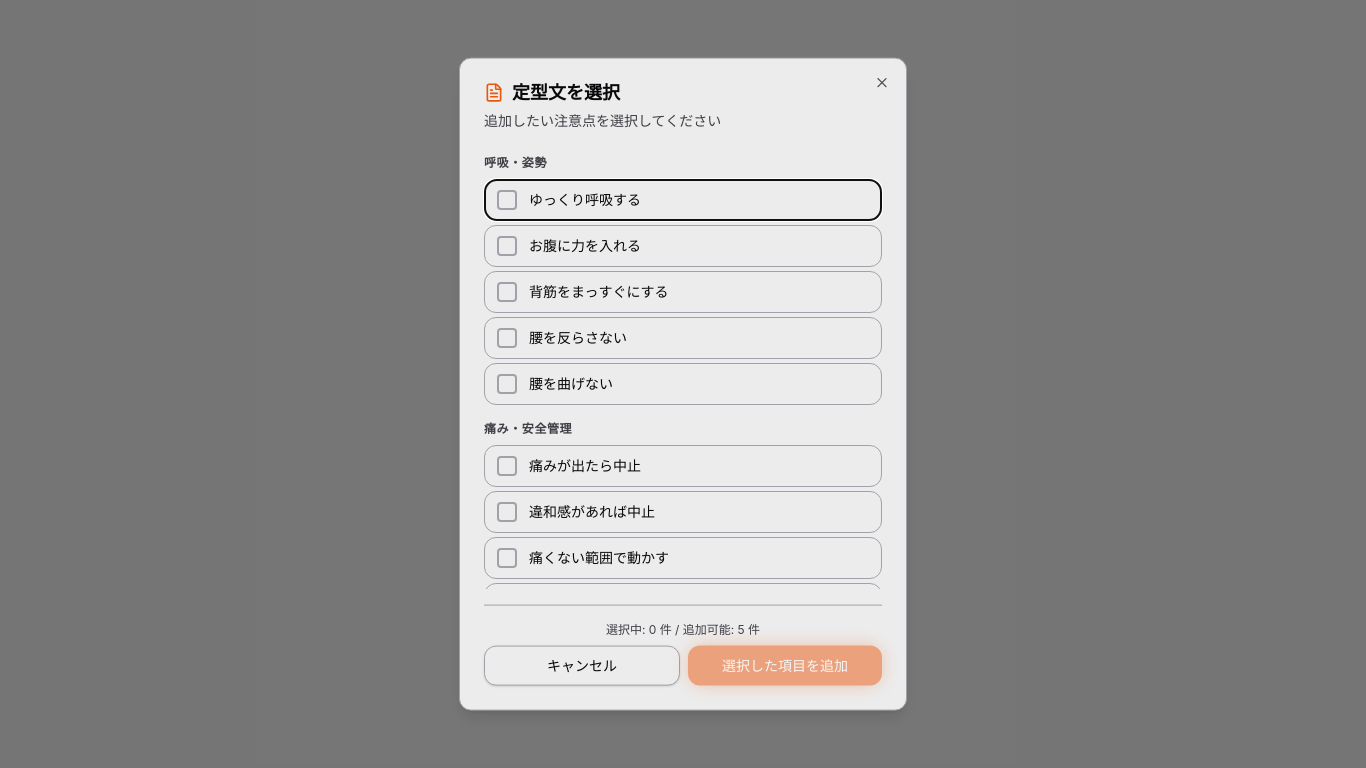
Test: PrecautionSnippetDialog › 選択機能 › 選択済みアイテムを再クリックで選択解除
Click the button "ゆっくり呼吸する" at (585, 199), box [484,179,882,221]
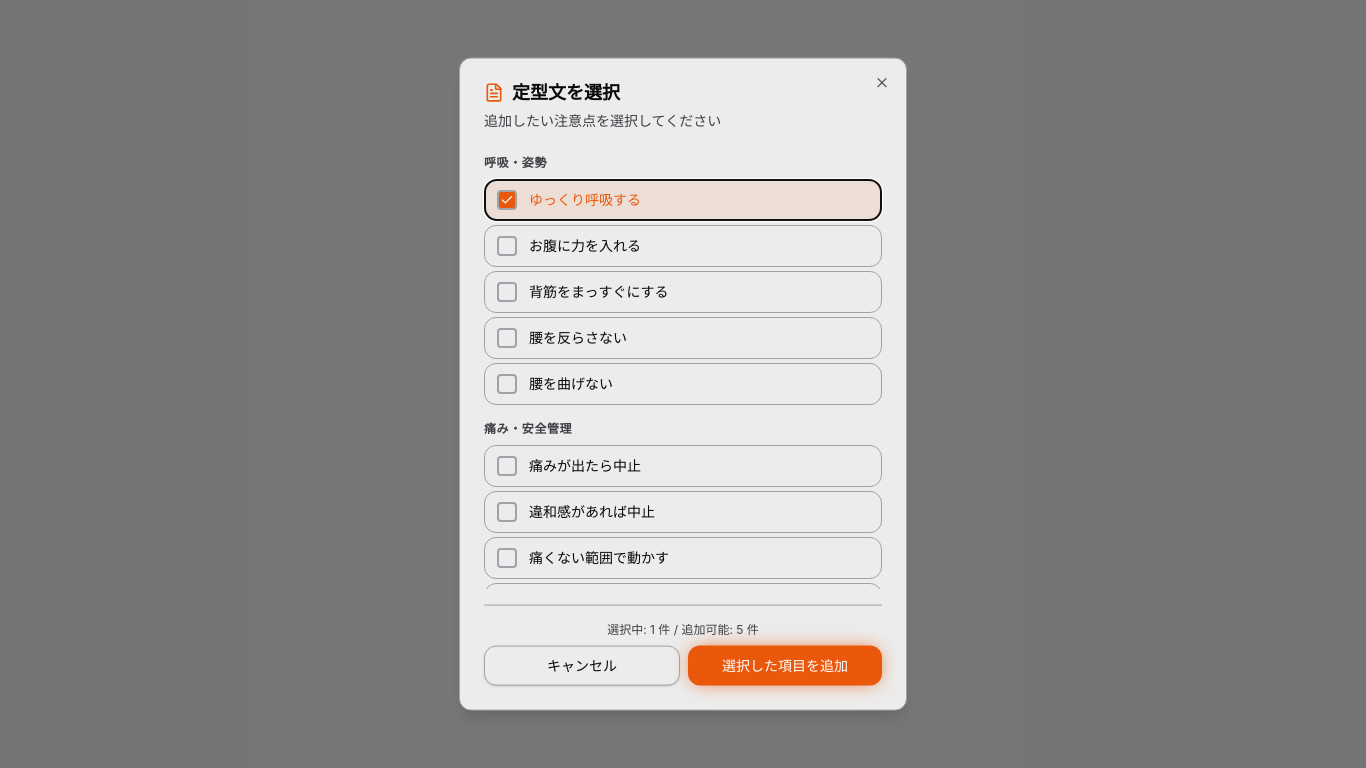
Check: the text "選択中: 1 件 / 追加可能: 5 件" is shown, box [607,621,759,636]
Click the button "ゆっくり呼吸する" at (585, 199), box [484,179,882,221]
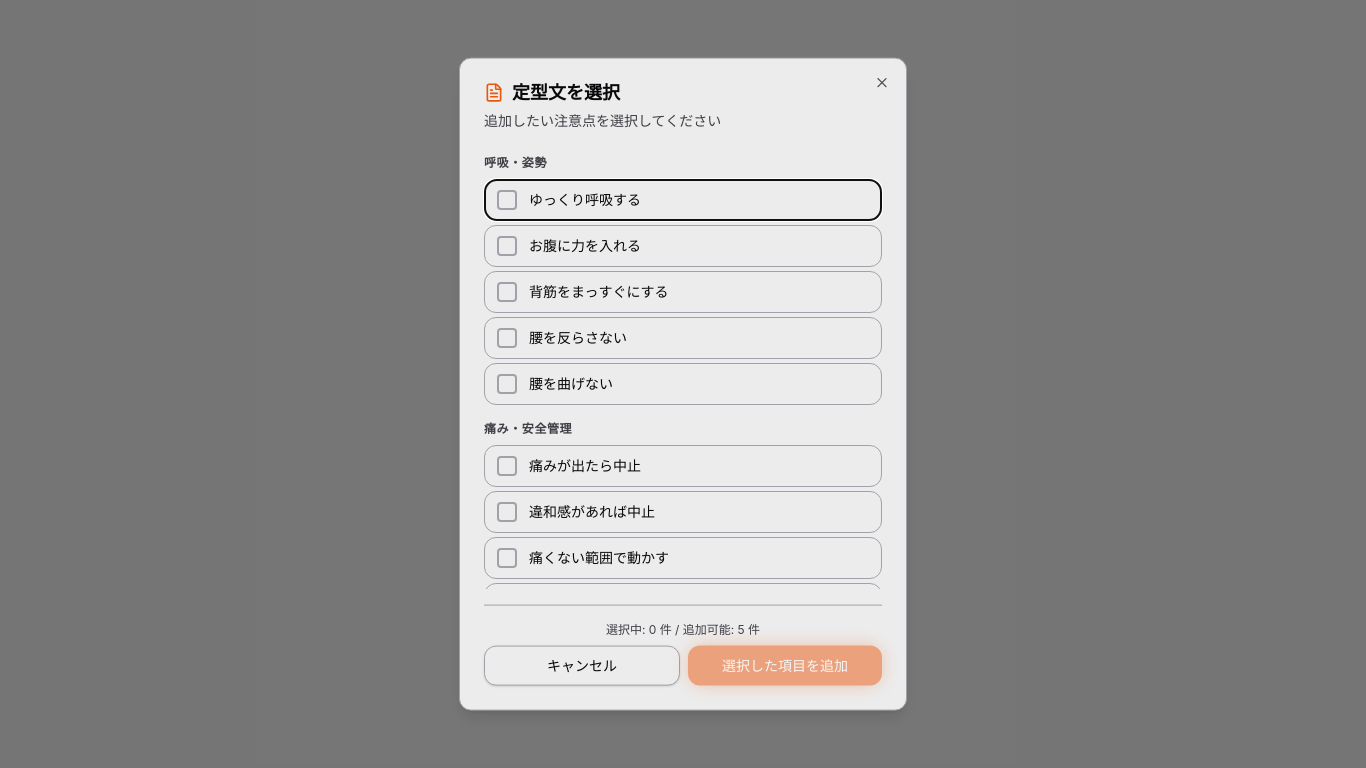
Check: the text "選択中: 0 件 / 追加可能: 5 件" is shown, box [606,621,760,636]
